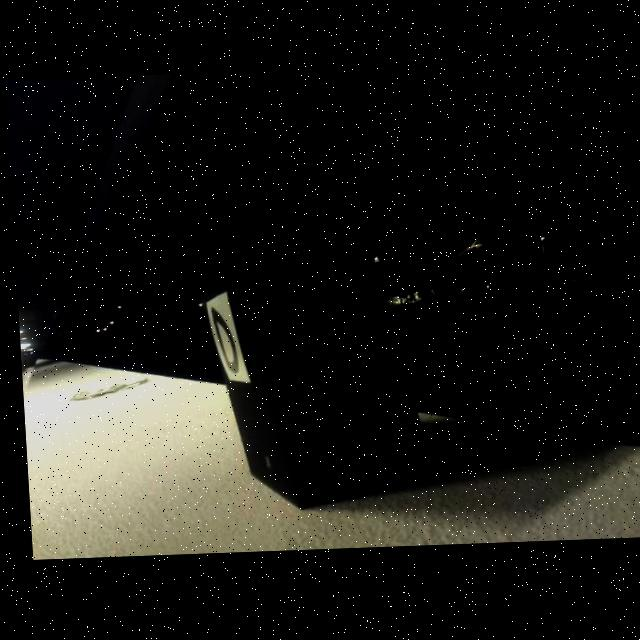D: (207, 307, 234, 376)
